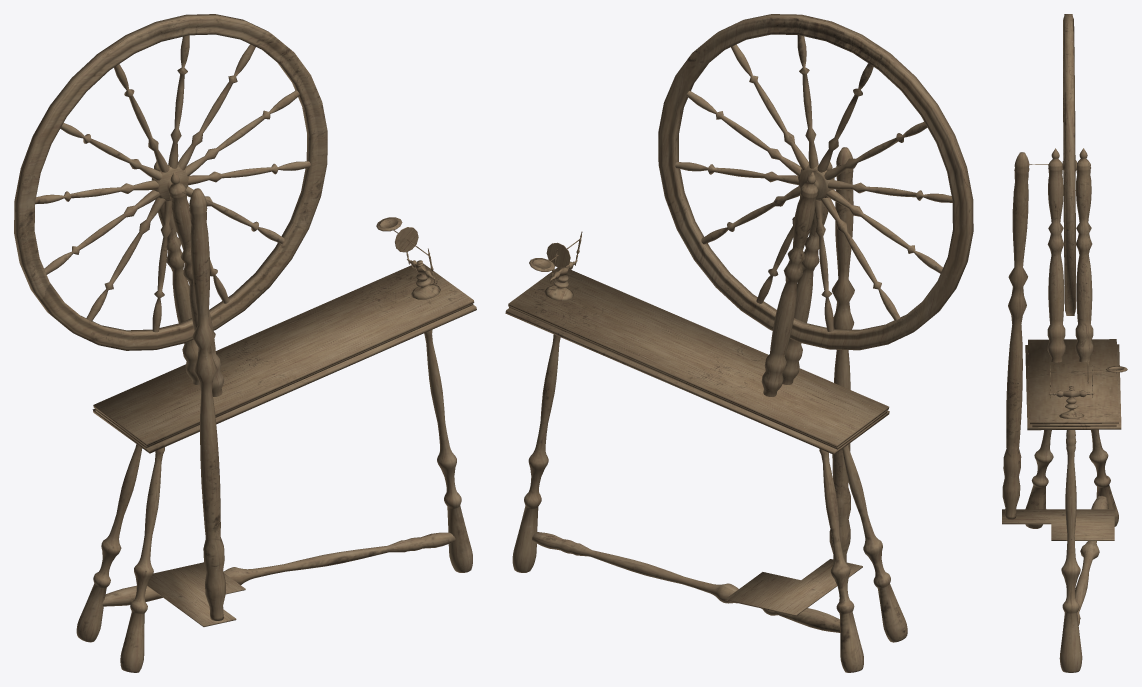
File: uwu.fbx
The picture shows the model from 3 angles, left to right: view 1: azimuth 30°, elevation 25°; view 2: azimuth 150°, elevation 25°; view 3: azimuth 270°, elevation 25°; orthographic projection. The views are drawn at different scales.
Visible parts, largest first — view 1: Circle; view 2: Circle; view 3: Circle.
Part boxes in pixels (<box>): Circle: <box>14,14,476,672</box>; Circle: <box>505,14,973,672</box>; Circle: <box>1002,14,1127,672</box>.
Bounding box in the file's own units: 979 × 1274 × 278.
